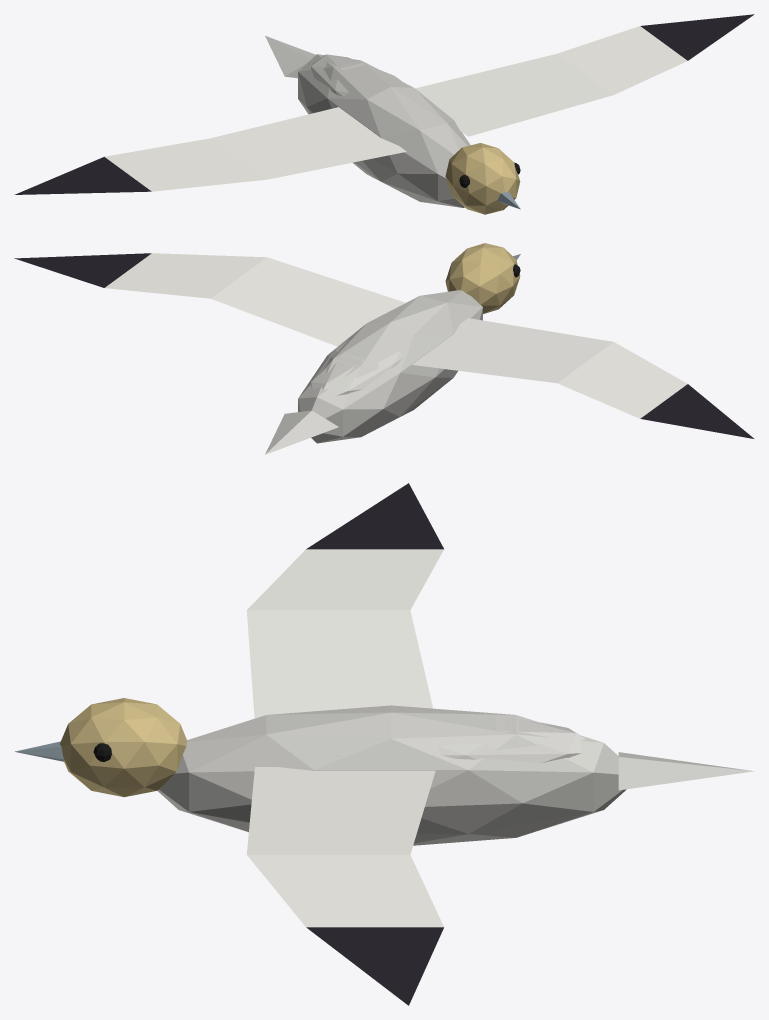
Rendered from oiseau-fou.glb.
The picture shows the model from 3 angles, top to bottom: view 1: azimuth 30°, elevation 25°; view 2: azimuth 150°, elevation 25°; view 3: azimuth 270°, elevation 25°; orthographic projection. The views are drawn at different scales.
Size of the model in its own units: 1.7 by 0.2092 by 1.02.
